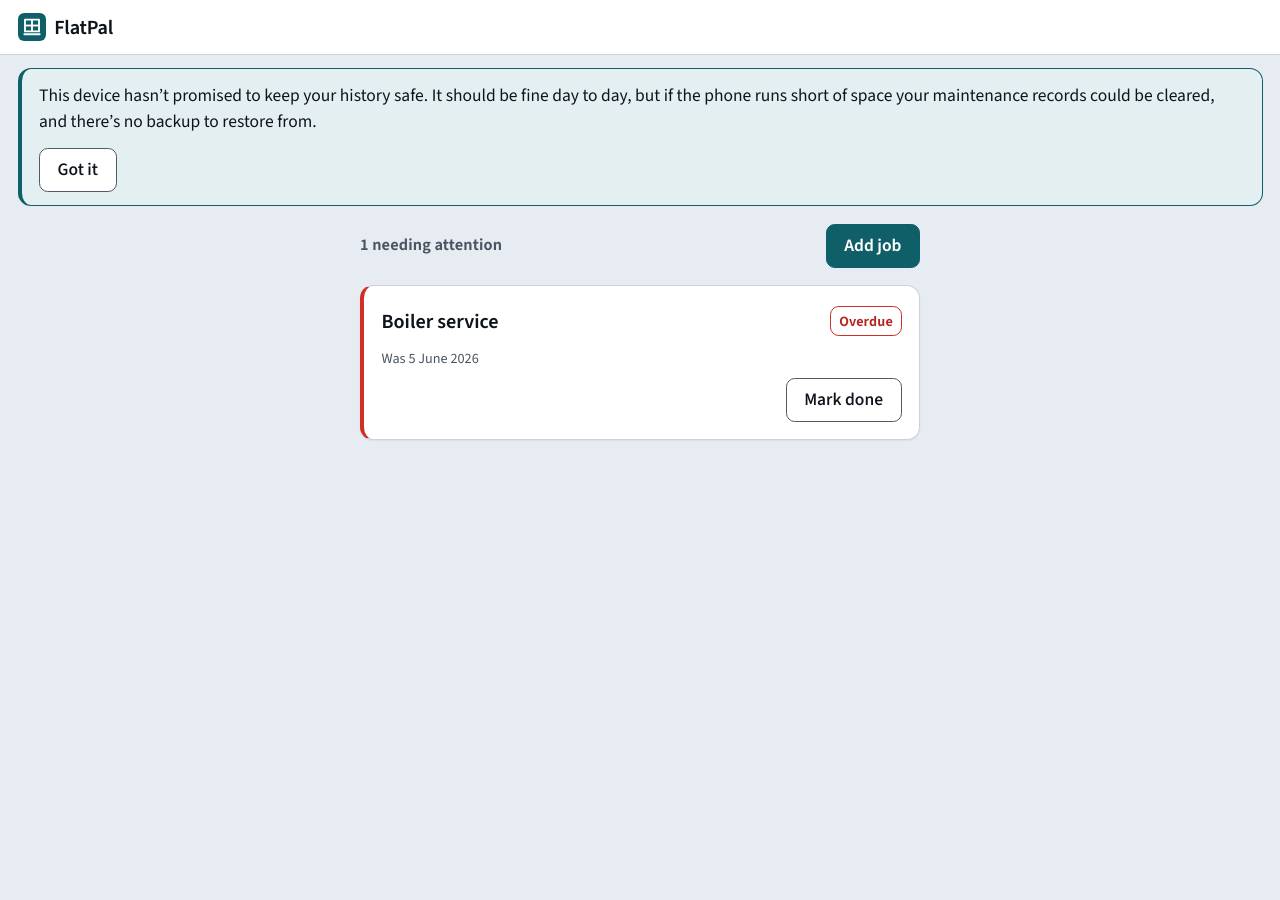
Test: removing one completion from a job’s history › does not go by when the entry was recorded
Click the button "Boiler service". click: point(440, 321)
box: [382,299,499,343]
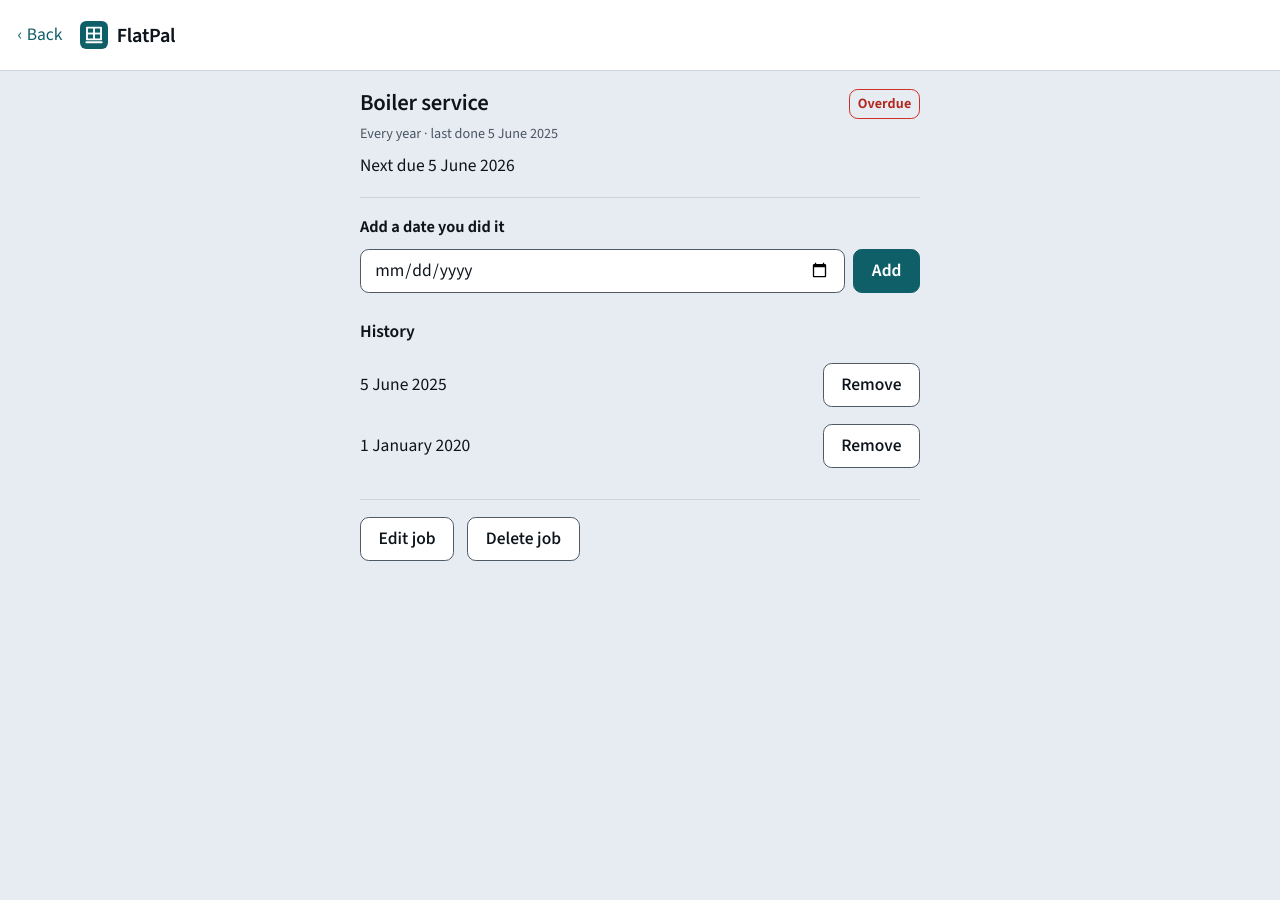
Click the button named "Remove the completion on 5 June 2025". click: point(871, 385)
box: [823,363,920,407]
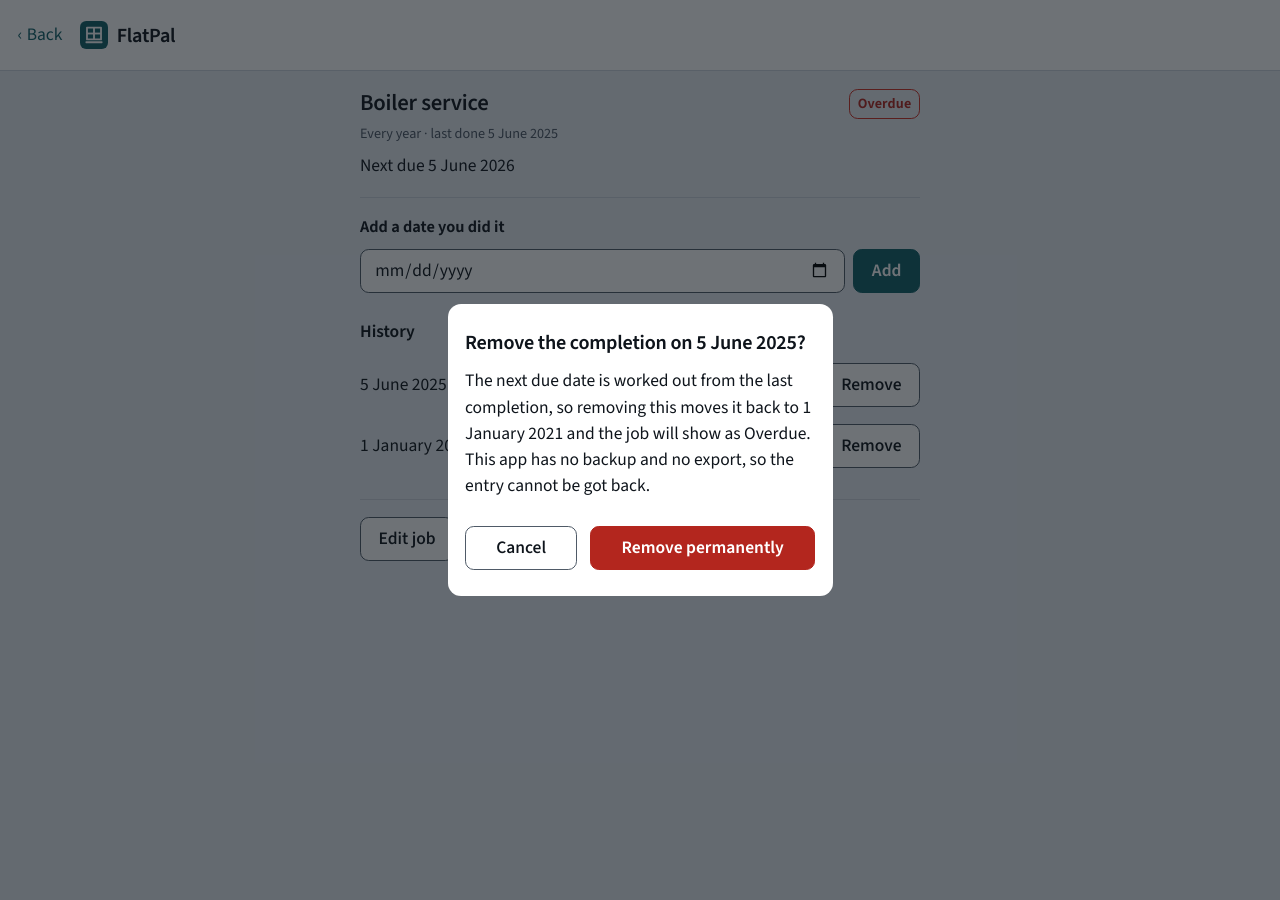
Click the button "Remove permanently". click: point(703, 548)
box: [590,526,815,570]
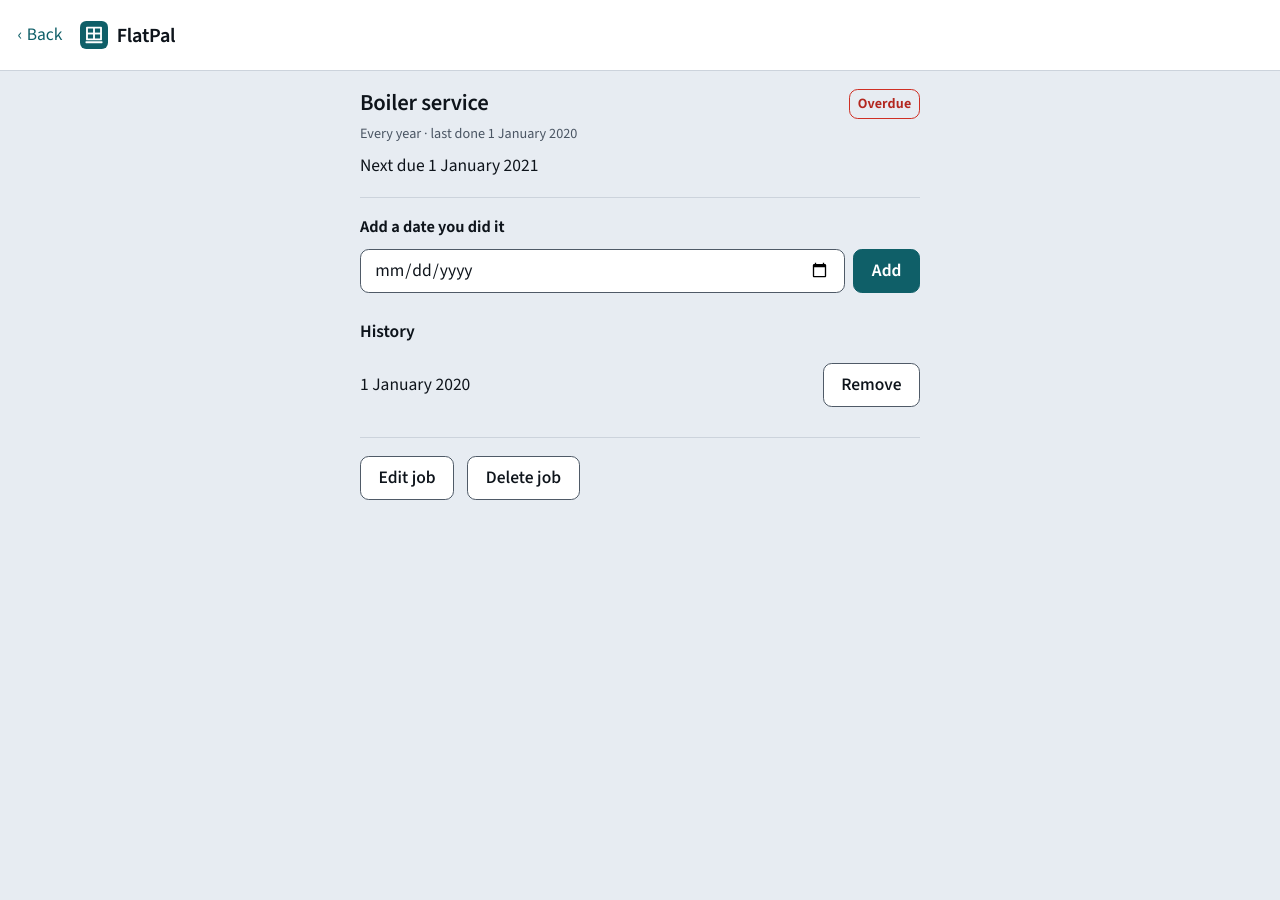
expect the text "Every year · last done 1 January 2020" is shown: met, box [360,123,577,144]
